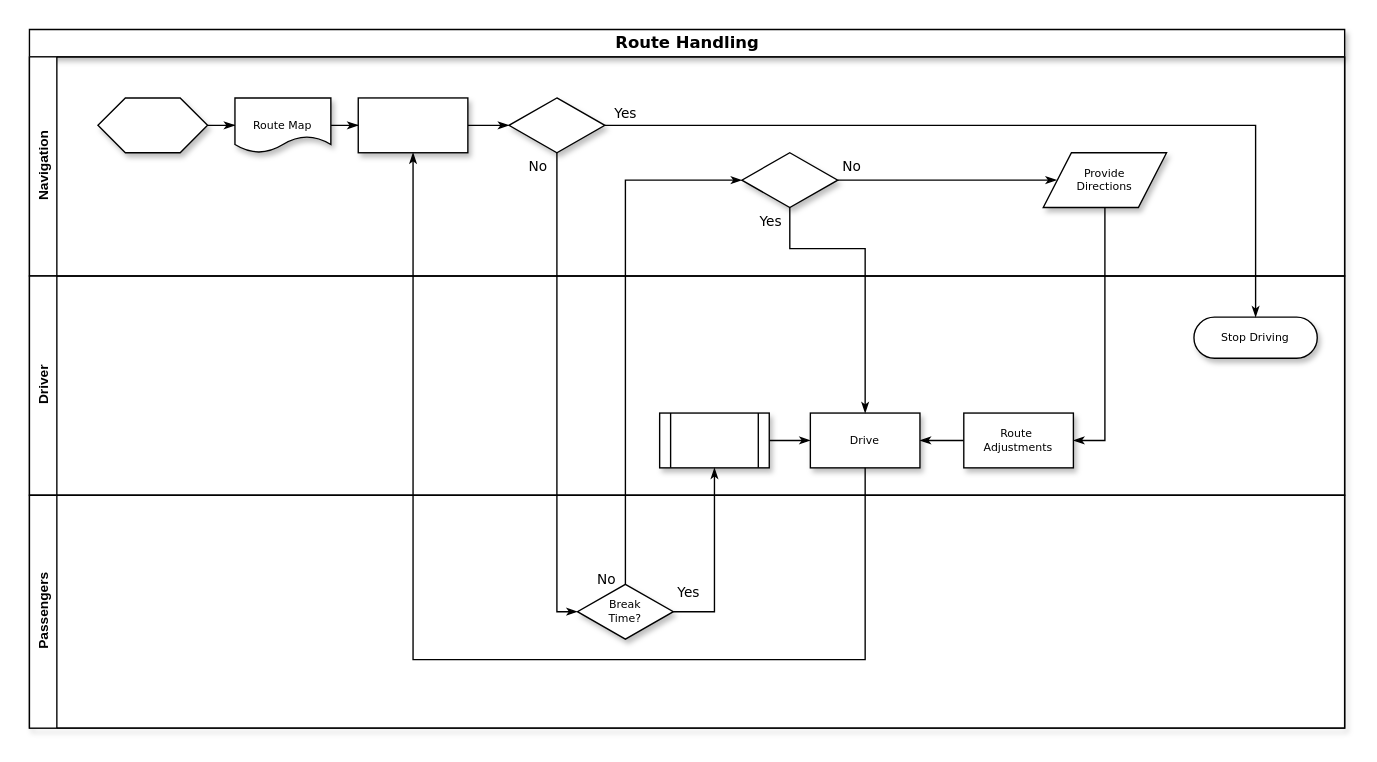
This 1377x762 diagram has some shape labels left out. The centre of each missing label's shape, as x and y in pixels:
"At Destination?" belongs at point 557,126.
"Break Stop" belongs at point 715,441.
"Monitor Route" belongs at point 413,126.
"On Course?" belongs at point 790,181.
"Plan Route" belongs at point 153,126.
